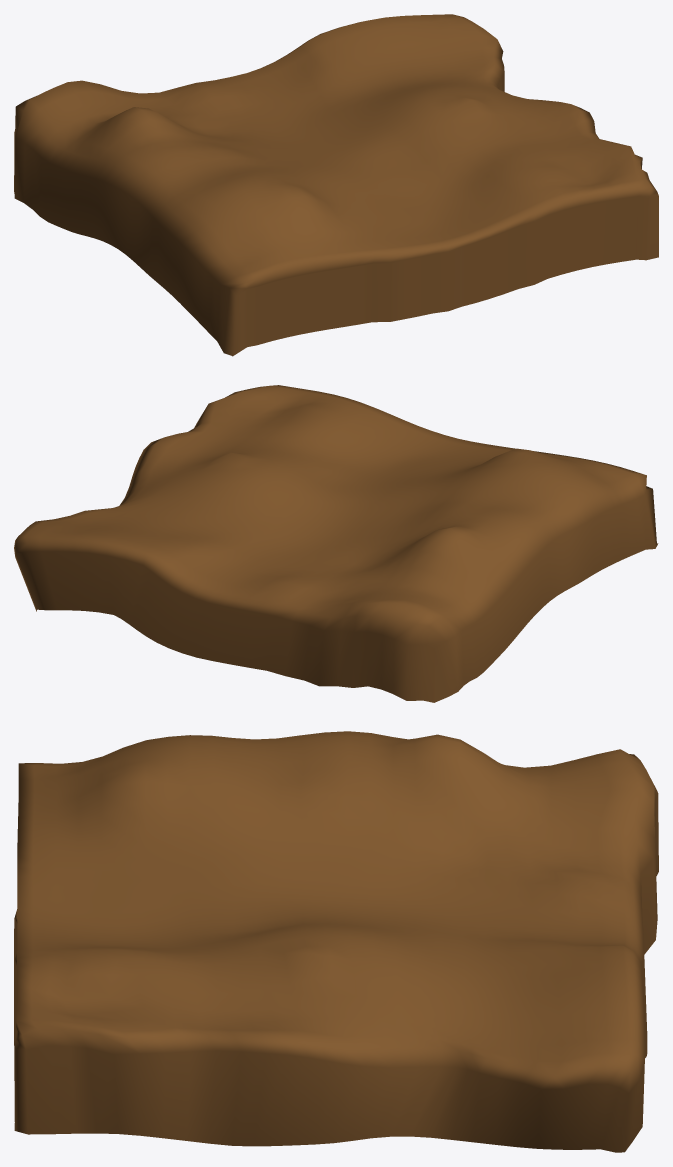
Rendered from terrain lvel 2.fbx.
3 renders of one model, top to bottom at view 1: azimuth 30°, elevation 25°; view 2: azimuth 150°, elevation 25°; view 3: azimuth 270°, elevation 25°, orthographic. The views are drawn at different scales.
Visible parts, largest first — view 1: pPlane1; view 2: pPlane1; view 3: pPlane1.
Boxes of the visible parts, x1,y1,x2,y2 form: pPlane1: (14, 14, 658, 356); pPlane1: (14, 385, 658, 702); pPlane1: (14, 731, 658, 1152).
Bounding box in the file's own units: 16.81 × 4.38 × 14.9.
